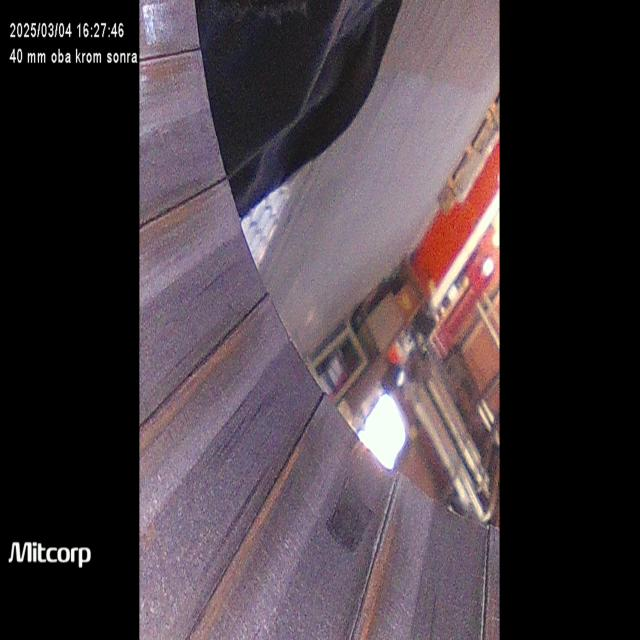hata_4.2: (171, 414, 327, 640), (138, 290, 276, 487), (339, 480, 418, 638), (139, 200, 246, 248), (140, 40, 206, 90)
